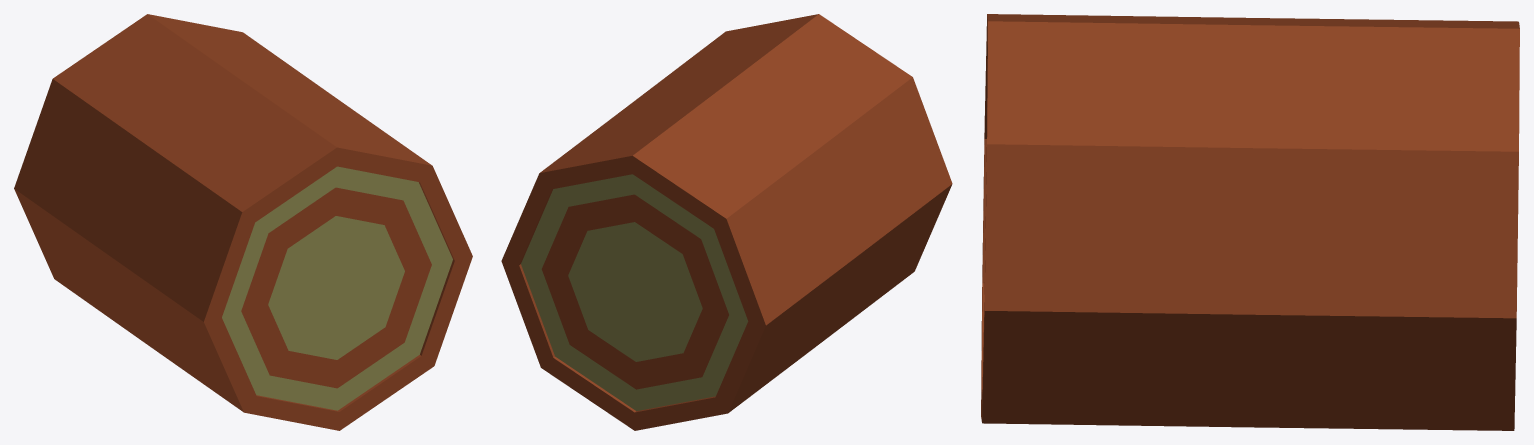
File: Log.fbx
The picture shows the model from 3 angles, left to right: view 1: azimuth 30°, elevation 25°; view 2: azimuth 150°, elevation 25°; view 3: azimuth 270°, elevation 25°; orthographic projection. The views are drawn at different scales.
Parts seen in each view (by area): view 1: Torus.001; view 2: Torus.001; view 3: Torus.001.
Part boxes in pixels (x1,y1,x2,y2): Torus.001: [14, 14, 472, 430]; Torus.001: [501, 14, 952, 430]; Torus.001: [981, 14, 1519, 430].
Bounding box in the file's own units: 129 × 131 × 159.
